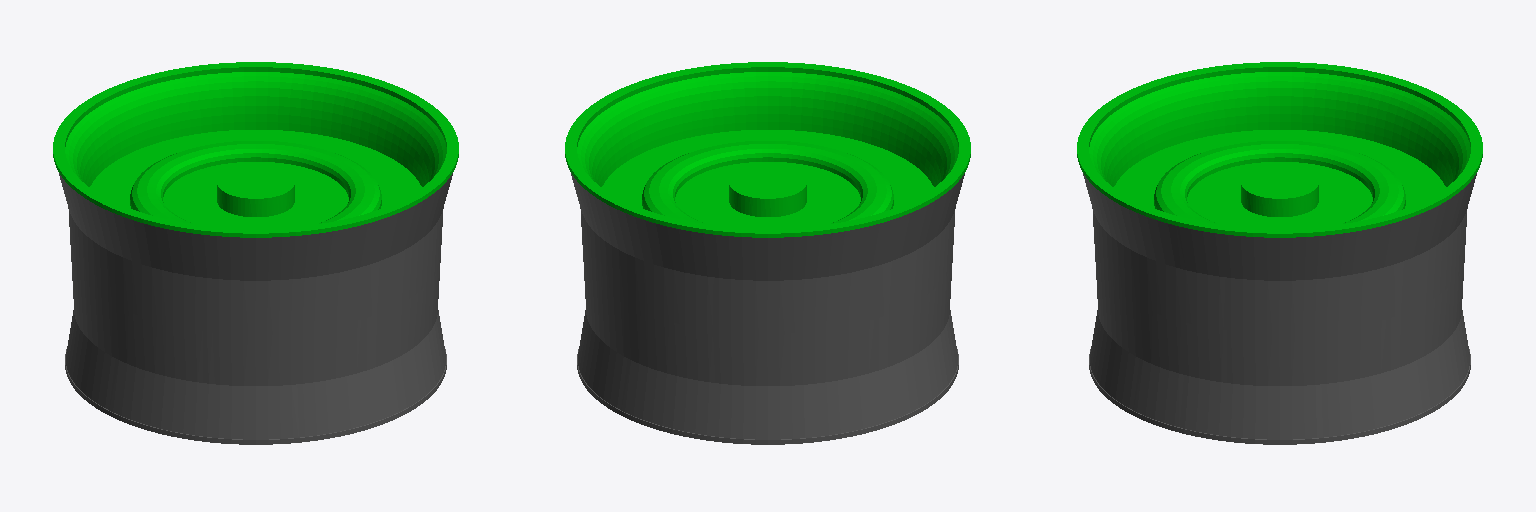
Rendered from right_hub.obj.
The picture shows the model from 3 angles: view 1: azimuth 30°, elevation 25°; view 2: azimuth 150°, elevation 25°; view 3: azimuth 270°, elevation 25°; orthographic projection.
Parts seen in each view (by area): view 1: Hub_wheel1; view 2: Hub_wheel1; view 3: Hub_wheel1.
Boxes of the visible parts, x1=… form: Hub_wheel1: x1=53, y1=62, x2=458, y2=444; Hub_wheel1: x1=565, y1=62, x2=970, y2=444; Hub_wheel1: x1=1077, y1=62, x2=1482, y2=444.
Bounding box in the file's own units: 0.4844 × 0.2847 × 0.4844.